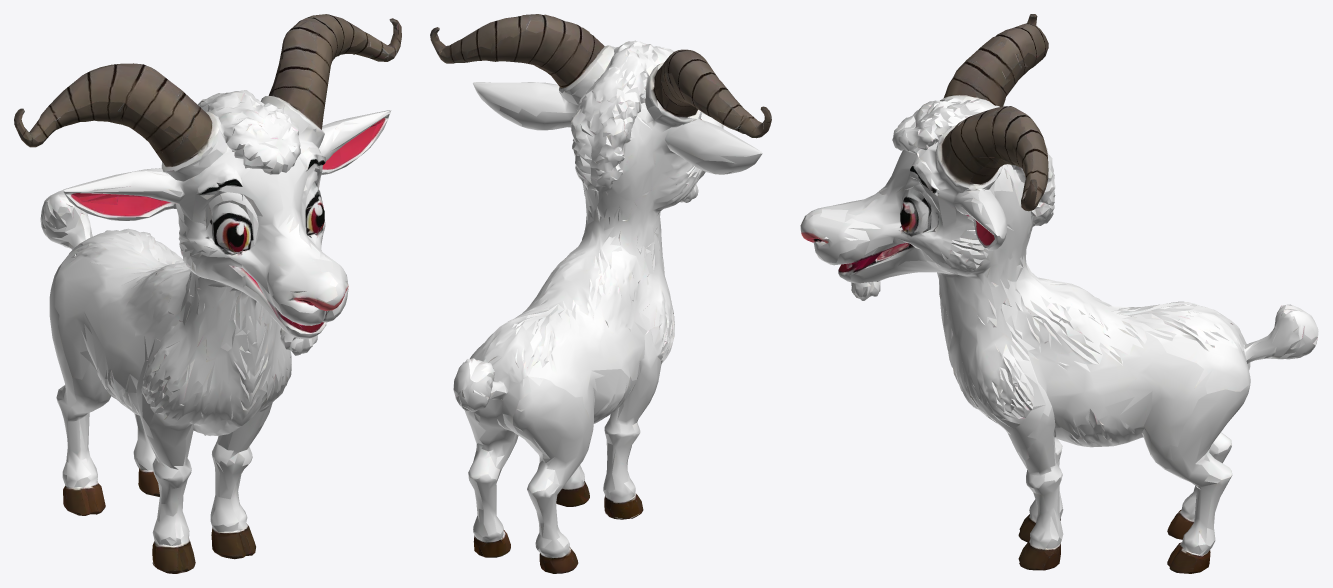
The model's file is char_goat.glb.
The picture shows the model from 3 angles, left to right: view 1: azimuth 30°, elevation 25°; view 2: azimuth 150°, elevation 25°; view 3: azimuth 270°, elevation 25°; orthographic projection. The views are drawn at different scales.
Size of the model in its own units: 1.46 by 1.9 by 1.86.
1 material, 1 textured.
